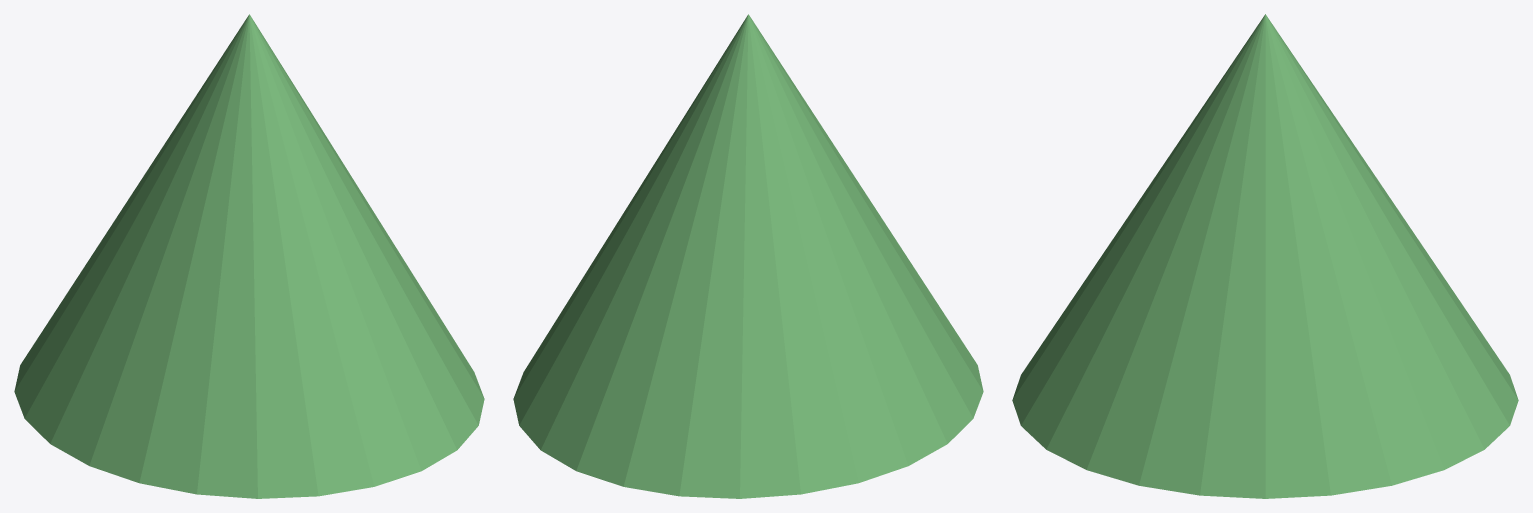
File: Ingenious Wolt-Habbi.glb
The picture shows the model from 3 angles, left to right: view 1: azimuth 30°, elevation 25°; view 2: azimuth 150°, elevation 25°; view 3: azimuth 270°, elevation 25°; orthographic projection.
Visible parts, largest first — view 1: Mesh_Mesh_head_geo.001_lambert2SG.001; view 2: Mesh_Mesh_head_geo.001_lambert2SG.001; view 3: Mesh_Mesh_head_geo.001_lambert2SG.001.
Part boxes in pixels (left/top/right/bottom): Mesh_Mesh_head_geo.001_lambert2SG.001: left=14, top=14, right=484, bottom=498; Mesh_Mesh_head_geo.001_lambert2SG.001: left=513, top=14, right=983, bottom=498; Mesh_Mesh_head_geo.001_lambert2SG.001: left=1012, top=14, right=1518, bottom=498.
Size of the model in its own units: 35 by 32 by 38.
